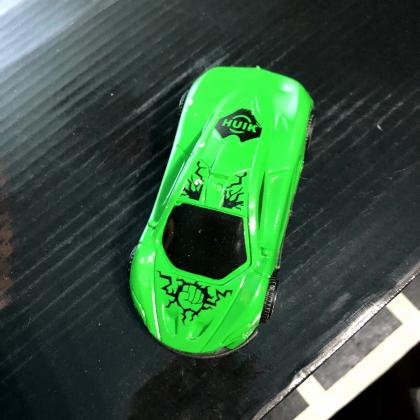Car: (128, 67, 315, 358)
